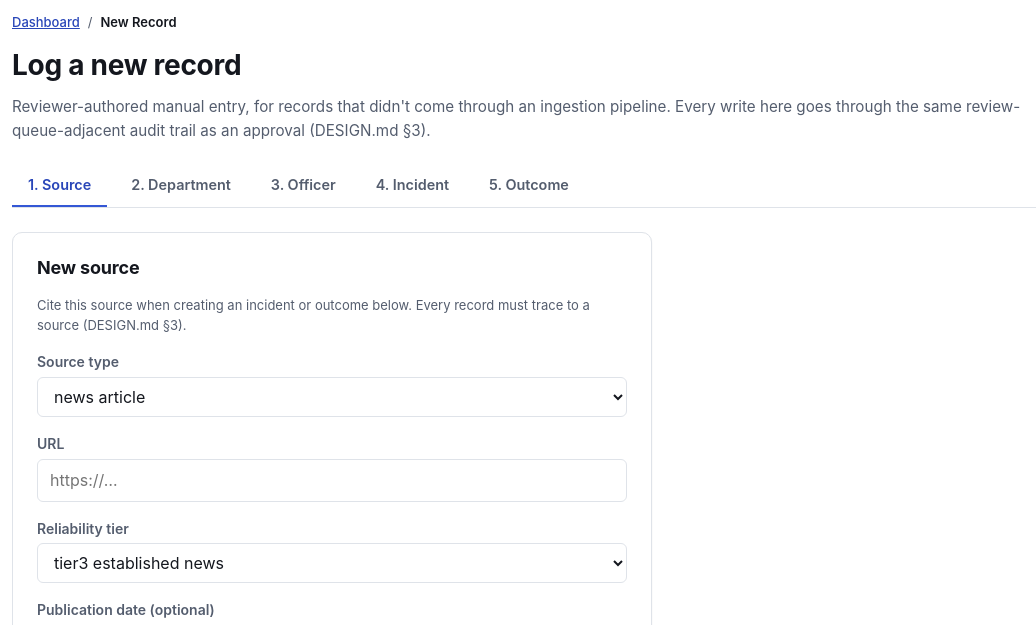
Test: NewRecordPage › renders the Source form by default, and switches the active step's form on tab click
The image size is (1036, 625).
Check: the heading "New source" is shown, box [37, 257, 140, 278]
Click the tab "2. Department".
click(181, 186)  # box [115, 166, 247, 207]
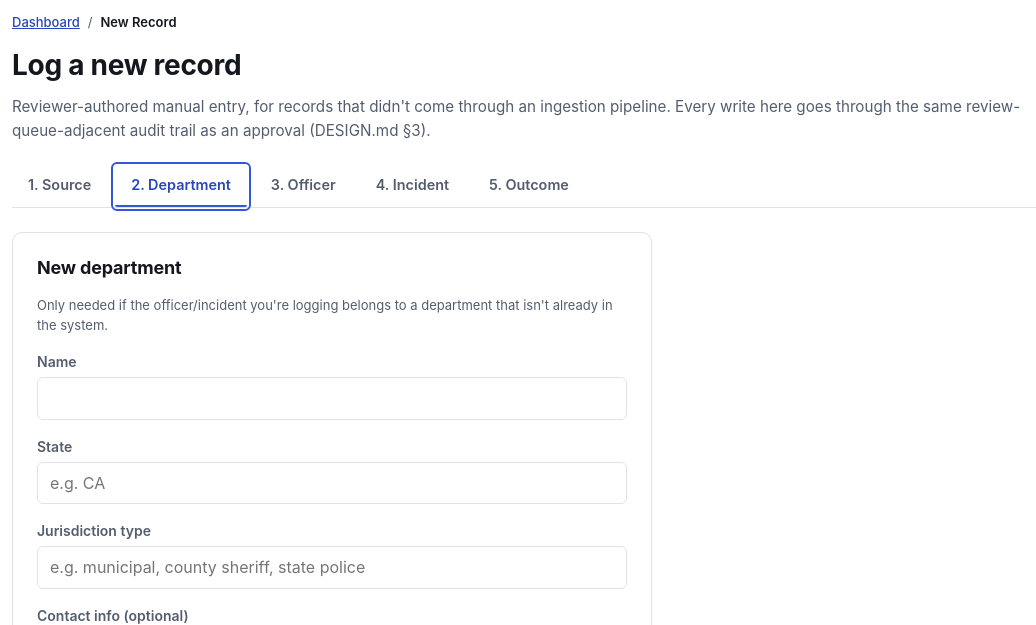
Check: the heading "New department" is shown, box [37, 257, 182, 278]
Click the tab "3. Officer".
click(303, 186)  # box [255, 166, 352, 207]
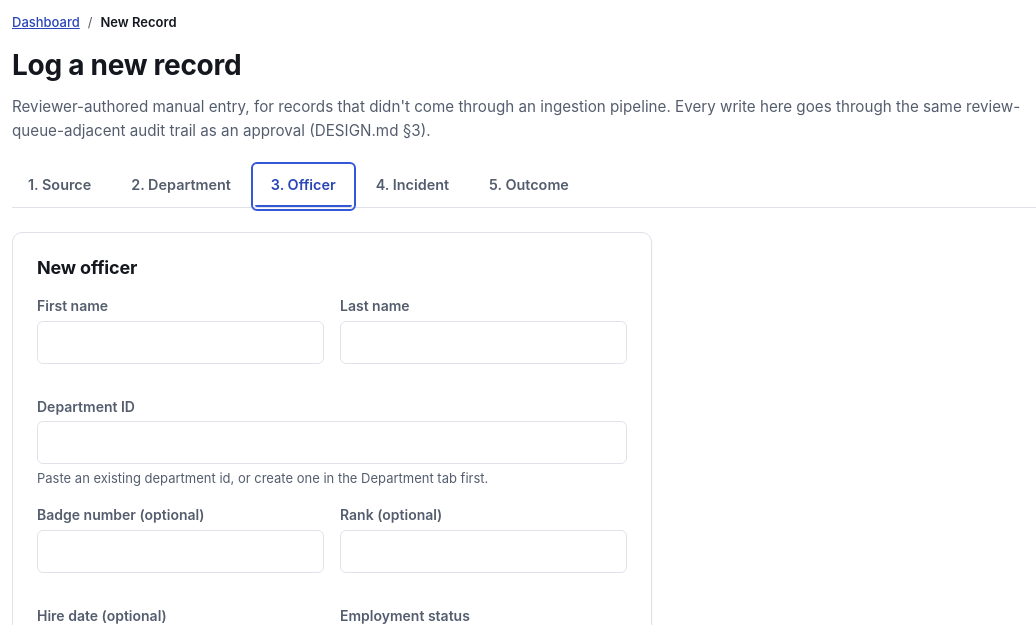
Check: the heading "New officer" is shown, box [37, 257, 137, 278]
Click the tab "4. Incident".
click(412, 186)  # box [360, 166, 465, 207]
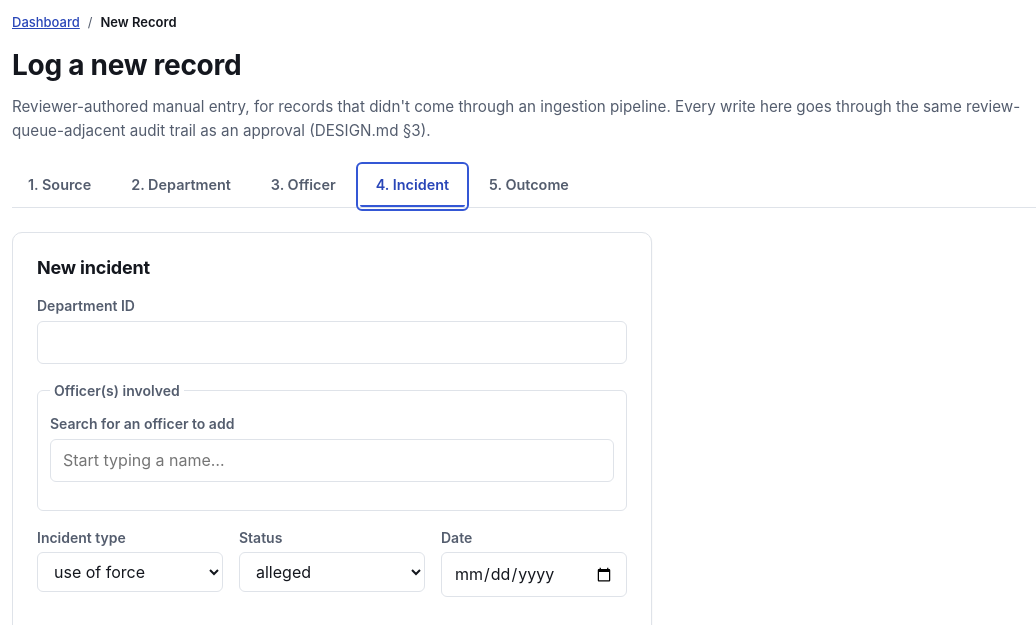
Check: the heading "New incident" is shown, box [37, 257, 150, 278]
Click the tab "5. Outcome".
click(529, 186)  # box [473, 166, 585, 207]
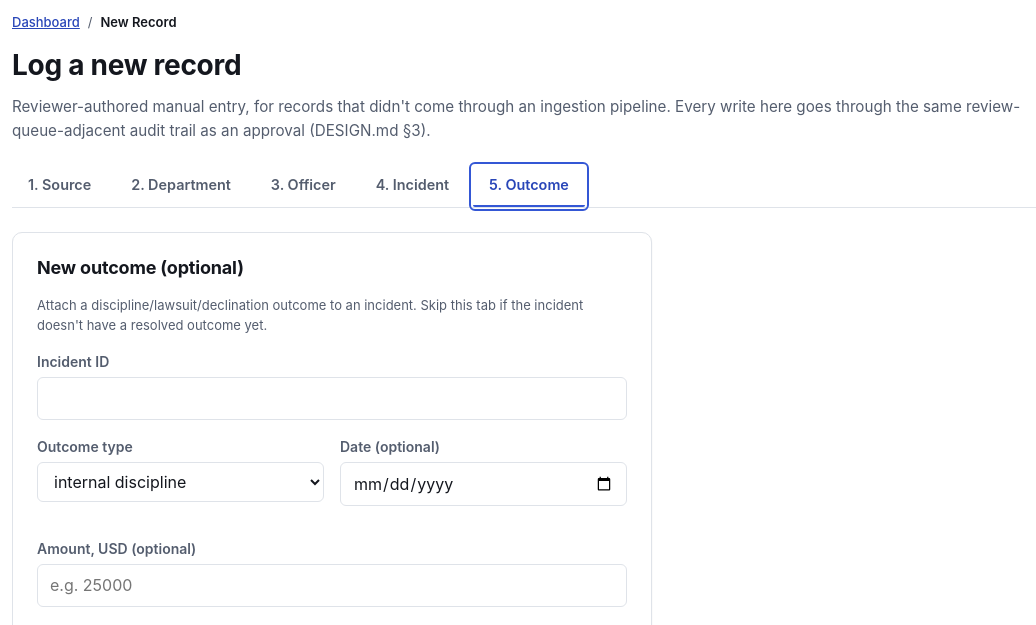
Check: the heading "New outcome (optional)" is shown, box [37, 257, 244, 278]
